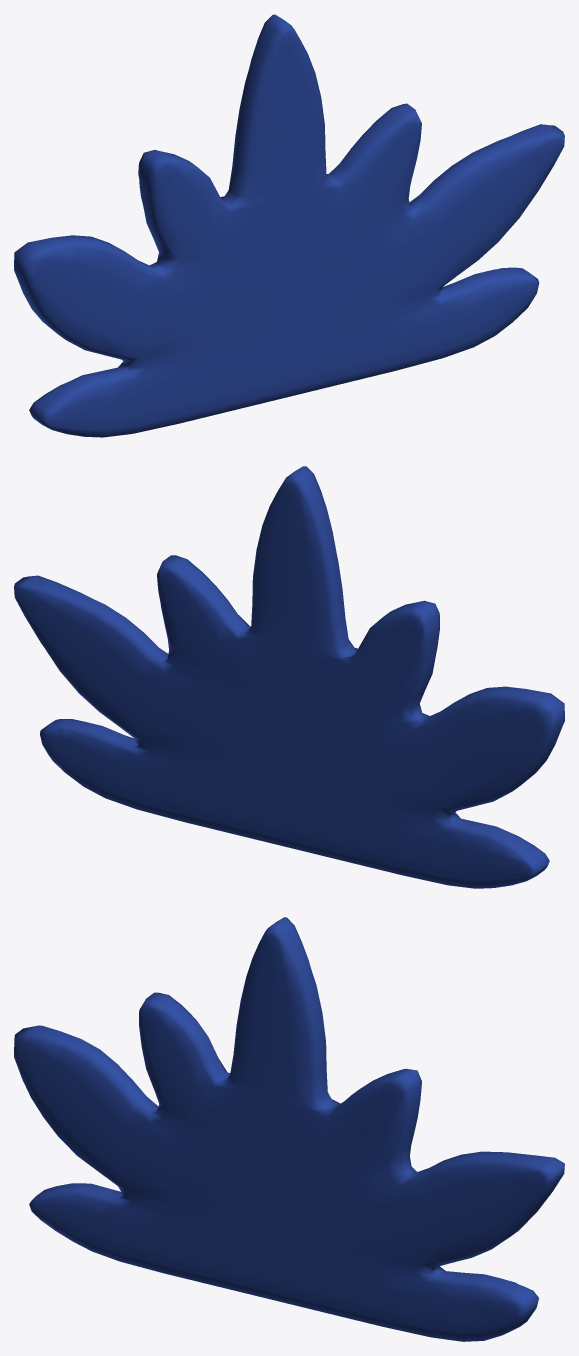
File: Bush1.obj
3 views of the same model, one above another, from view 1: azimuth 30°, elevation 25°; view 2: azimuth 150°, elevation 25°; view 3: azimuth 330°, elevation 25° (orthographic).
Parts seen in each view (by area): view 1: pCube1; view 2: pCube1; view 3: pCube1.
Boxes of the visible parts, x1,y1,x2,y2 form: pCube1: (14, 14, 564, 437); pCube1: (14, 466, 564, 888); pCube1: (14, 917, 564, 1341).
Size of the model in its own units: 3.57 by 2.38 by 0.1958.
1 material, 1 textured.
